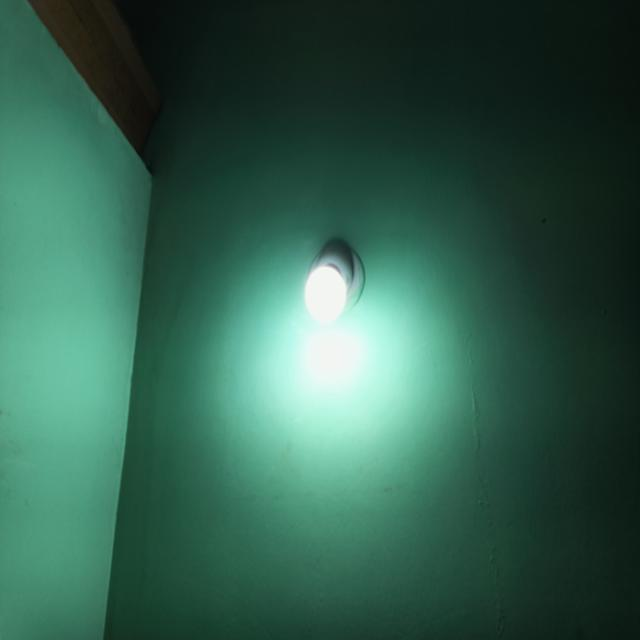bulb_on: (303, 262, 349, 324)
